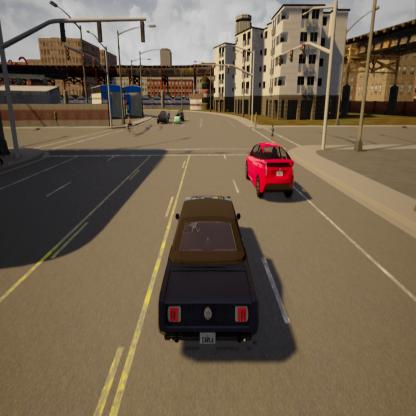Cars: (141, 189, 266, 368), (236, 124, 297, 207), (153, 95, 171, 132), (173, 98, 186, 134)
Pedestrian: (48, 98, 61, 136), (124, 102, 134, 140), (247, 99, 258, 130), (270, 115, 274, 146)
